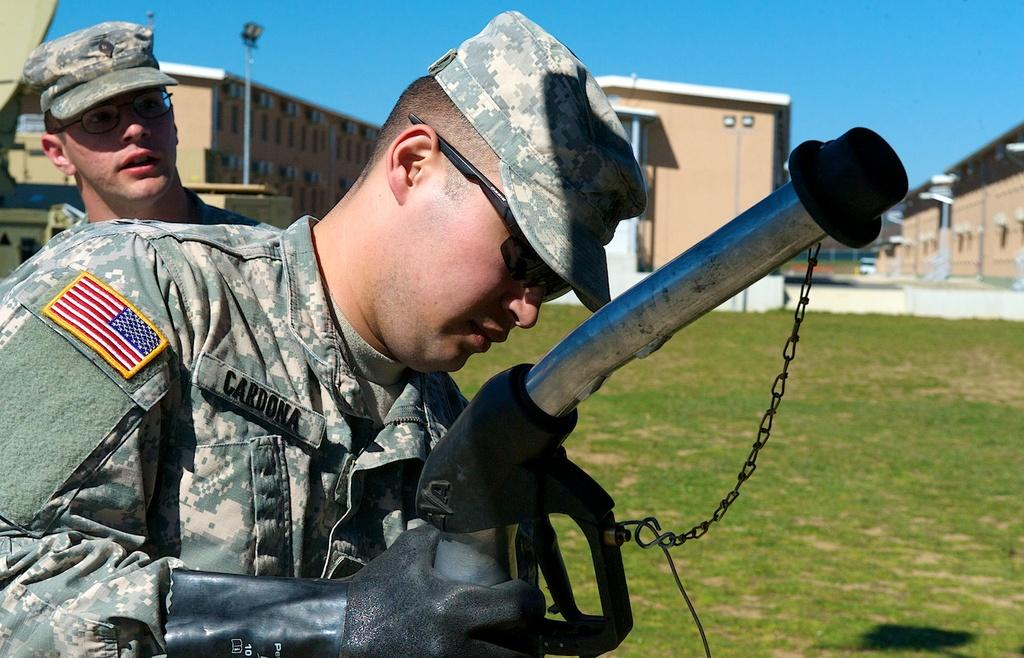Hat: (427, 8, 652, 312), (30, 17, 184, 139)
